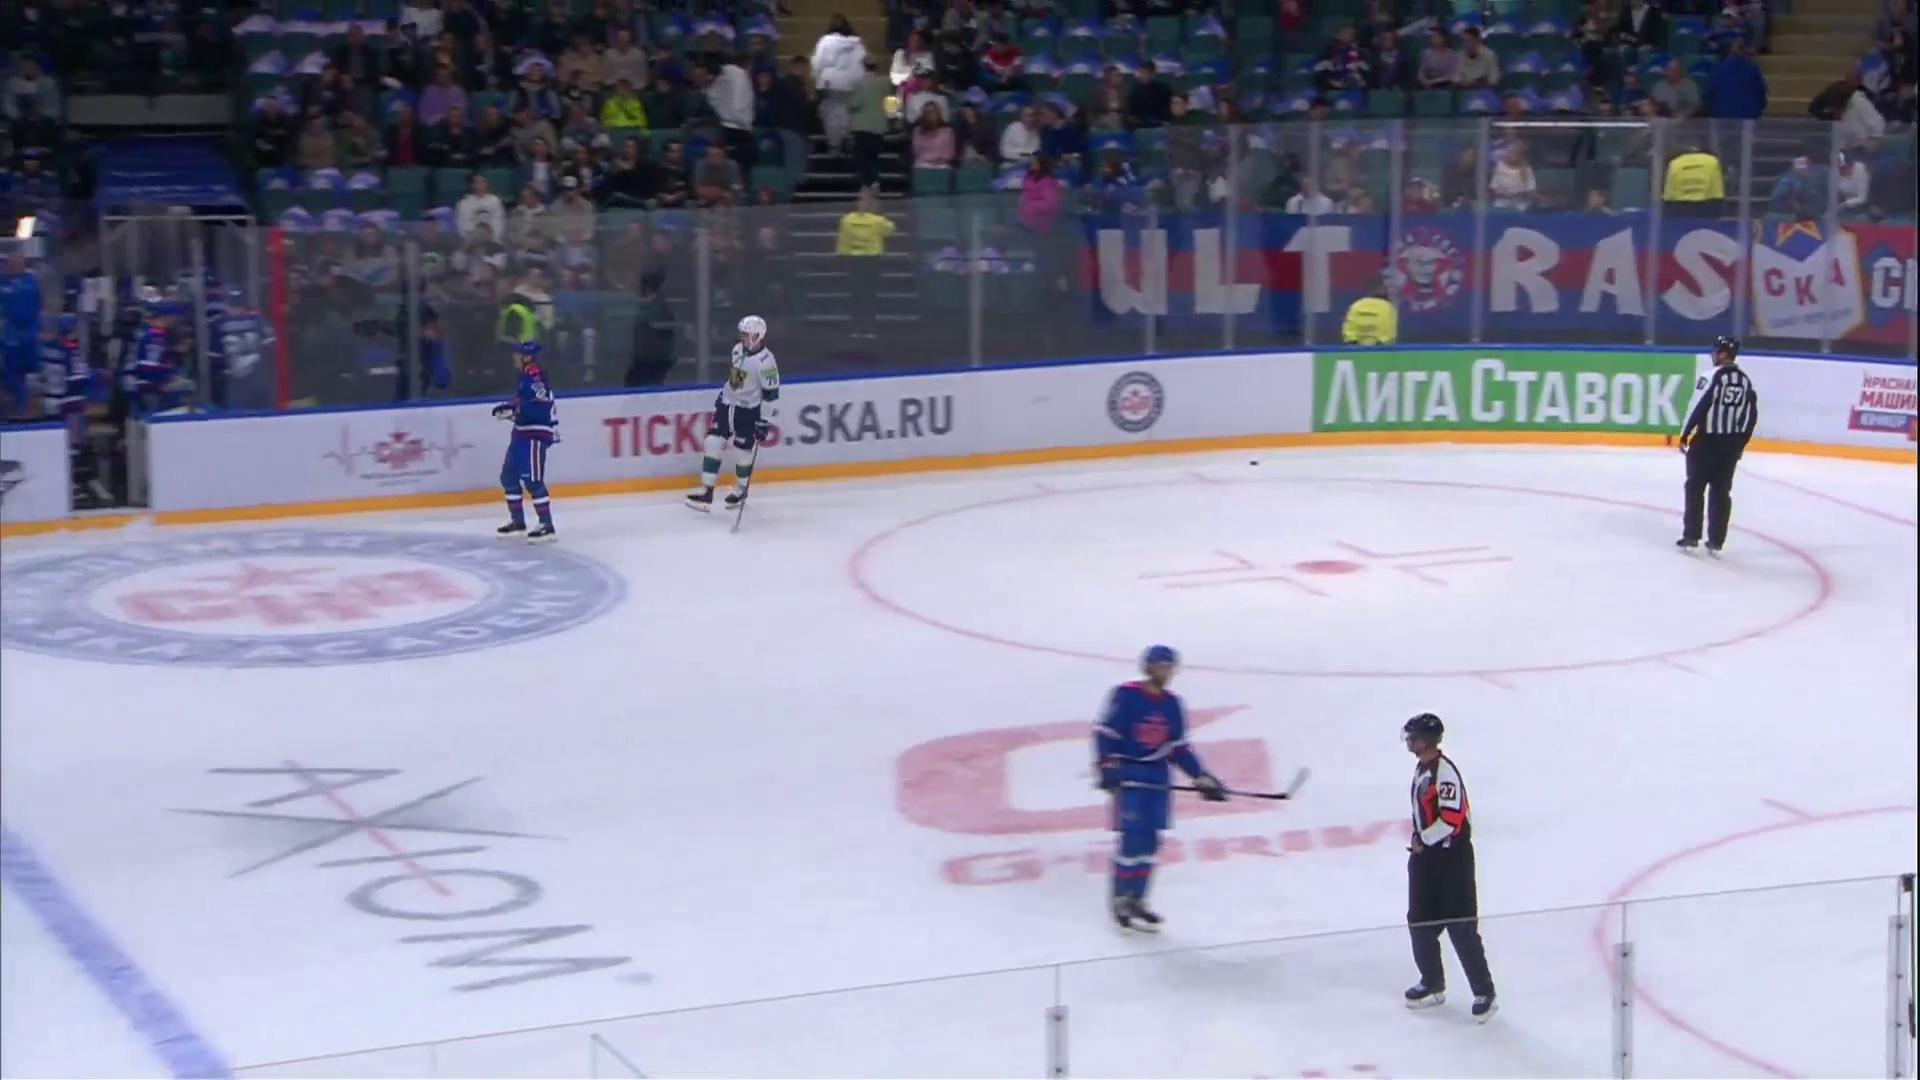ball: (1249, 460, 1259, 465)
